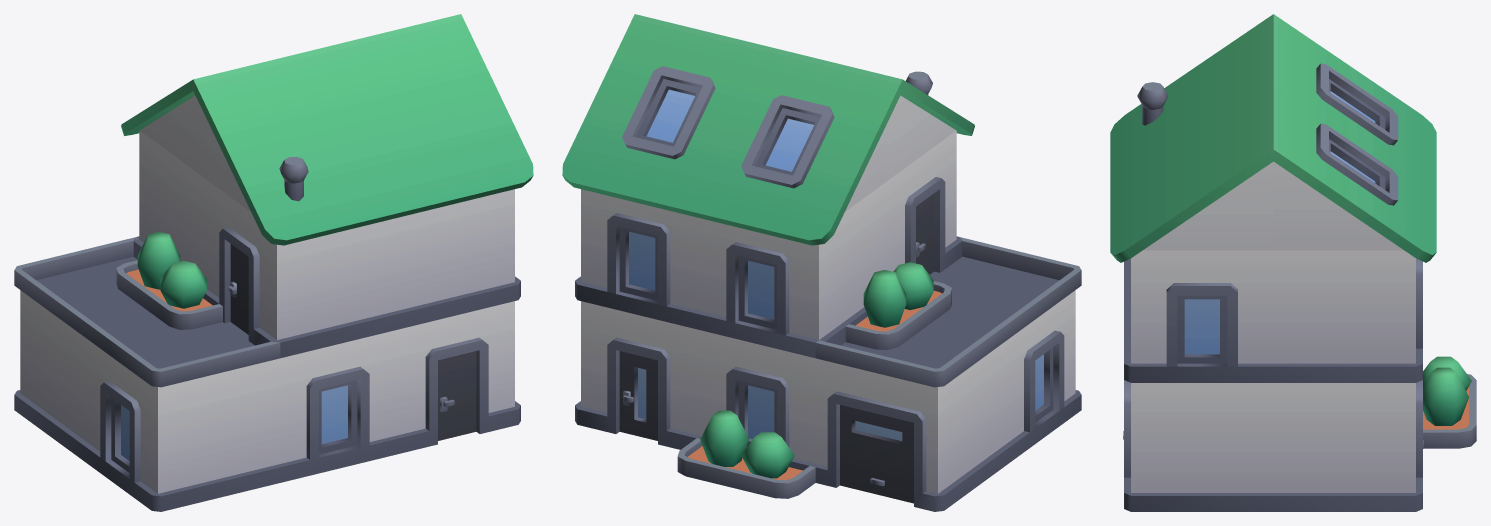
Rendered from building-type-o.glb.
3 views of the same model, side by side, from view 1: azimuth 30°, elevation 25°; view 2: azimuth 150°, elevation 25°; view 3: azimuth 270°, elevation 25° (orthographic). The views are drawn at different scales.
Parts seen in each view (by area): view 1: building-type-o; view 2: building-type-o; view 3: building-type-o.
Boxes of the visible parts, x1,y1,x2,y2 form: building-type-o: [14, 14, 533, 511]; building-type-o: [562, 14, 1081, 511]; building-type-o: [1110, 14, 1476, 511].
Bounding box in the file's own units: 1.27 × 1.14 × 1.03.
Materials: 1 (1 with a texture image).
